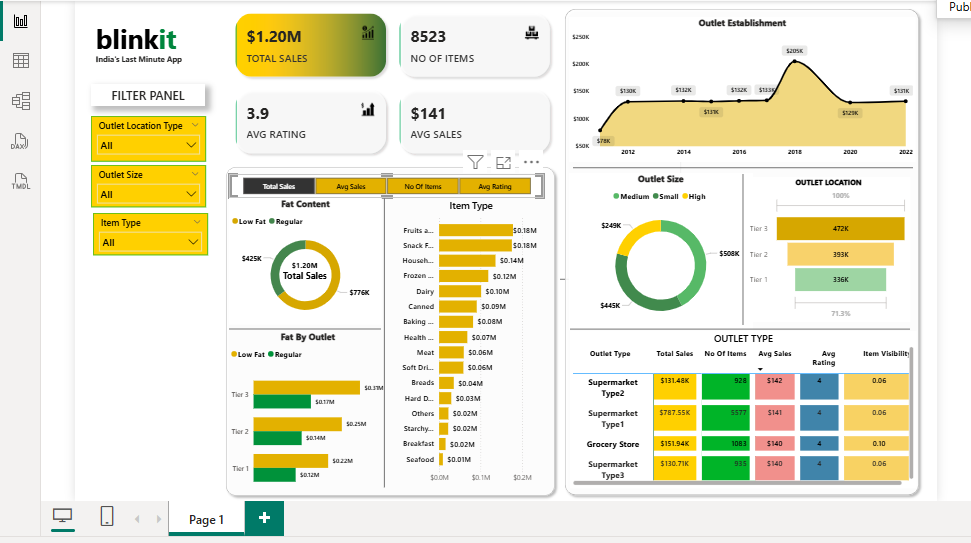

What the dashboard file says about the page in this screenshot:
{"tool":"powerbi","page":{"name":"Page 1","canvas":[1550,900],"ordinal":0},"visuals":[{"type":"shape","box":[12.3,12.3,250.5,886.9],"z":0},{"type":"textbox","box":[32.4,28.8,201.6,81],"z":1000},{"type":"textbox","box":[32.4,90,207,50.4],"z":2000},{"type":"cardVisual","fields":{"Data":["BlinkIT Grocery Data.Total Sales","BlinkIT Grocery Data.No Of Items","BlinkIT Grocery Data.Avg Rating","BlinkIT Grocery Data.Avg Sales"]},"box":[271,6.2,601.5,287.4],"z":3000},{"type":"shape","box":[262.8,289.5,609.7,609.7],"z":4000},{"type":"slicer","fields":{"Values":["Metrics.Metrics"]},"box":[277.2,312.1,566.6,43.1],"z":5000},{"type":"donutChart","title":"Fat Content","fields":{"Y":["BlinkIT Grocery Data.No Of Items"],"Category":["BlinkIT Grocery Data.Item Fat Content"]},"box":[277.2,355.2,275.1,227.9],"z":6000},{"type":"cardVisual","fields":{"Data":["BlinkIT Grocery Data.No Of Items"]},"box":[351.1,449.6,125.2,67.7],"z":6001},{"type":"clusteredBarChart","title":"Fat By Outlet","fields":{"Y":["BlinkIT Grocery Data.No Of Items"],"Category":["BlinkIT Grocery Data.Outlet Location Type"],"Series":["BlinkIT Grocery Data.Item Fat Content"]},"box":[275.1,593.3,287.4,305.9],"z":6002},{"type":"shape","box":[872.2,494.7,214.6,11.9],"z":6004},{"type":"shape","box":[1078.5,270.1,23.9,224.1],"z":6005},{"type":"barChart","title":"Item Type","fields":{"Category":["BlinkIT Grocery Data.Item Type"],"Y":["BlinkIT Grocery Data.No Of Items"]},"box":[572.8,355.2,281.3,521.5],"z":6006},{"type":"shape","box":[872.5,6.2,654.9,893],"z":6007},{"type":"lineChart","title":"Outlet Establishment ","fields":{"Category":["BlinkIT Grocery Data.Outlet Establishment Year"],"Y":["BlinkIT Grocery Data.Total Sales"]},"box":[888.9,28.7,624.1,260.7],"z":6008},{"type":"shape","box":[897.2,289.5,611.8,20.5],"z":6009},{"type":"donutChart","title":"Outlet Size","fields":{"Y":["BlinkIT Grocery Data.Total Sales"],"Category":["BlinkIT Grocery Data.Outlet Size"]},"box":[888.9,310,330.5,283.3],"z":6010},{"type":"shape","box":[550.2,355.2,12.3,521.5],"z":6011},{"type":"shape","box":[1194.8,312.1,14.4,271],"z":6012},{"type":"shape","box":[891,574.8,611.8,32.8],"z":6013},{"type":"funnel","title":" OUTLET LOCATION","fields":{"Y":["Sum(BlinkIT Grocery Data.Sales)"],"Category":["BlinkIT Grocery Data.Outlet Location Type"]},"box":[1209.2,316.2,293.6,260.7],"z":6014},{"type":"pivotTable","title":"OUTLET TYPE","fields":{"Values":["BlinkIT Grocery Data.Total Sales","BlinkIT Grocery Data.No Of Items","BlinkIT Grocery Data.Avg Sales","BlinkIT Grocery Data.Avg Rating","Avg(BlinkIT Grocery Data.Item Visibility)"],"Rows":["BlinkIT Grocery Data.Outlet Type"]},"box":[891,593.3,624.1,283.3],"z":6016},{"type":"slicer","fields":{"Values":["BlinkIT Grocery Data.Outlet Size"]},"box":[28.7,295.6,207.4,76],"z":6017},{"type":"shape","box":[277.2,583,273,14.4],"z":6018},{"type":"slicer","fields":{"Values":["BlinkIT Grocery Data.Outlet Location Type"]},"box":[28.7,207.4,207.4,82.1],"z":6019},{"type":"slicer","fields":{"Values":["BlinkIT Grocery Data.Item Type"]},"box":[32.8,381.9,207.4,76],"z":6020},{"type":"textbox","box":[28.7,149.9,205.3,39],"z":6021}]}

Visuals, with their boxes on the page's 1550x900 design canvas (x1, y1, x2, y2). These are canvas units, not pixel positions in the 971x543 screenshot, which may show the page scaled, cropped or inside an application window:
shape: {"x1": 12, "y1": 12, "x2": 263, "y2": 899}
textbox: {"x1": 32, "y1": 29, "x2": 234, "y2": 110}
textbox: {"x1": 32, "y1": 90, "x2": 239, "y2": 140}
cardVisual - BlinkIT Grocery Data.Total Sales x BlinkIT Grocery Data.No Of Items: {"x1": 271, "y1": 6, "x2": 872, "y2": 294}
shape: {"x1": 263, "y1": 290, "x2": 872, "y2": 899}
slicer - Metrics.Metrics: {"x1": 277, "y1": 312, "x2": 844, "y2": 355}
"Fat Content" donutChart: {"x1": 277, "y1": 355, "x2": 552, "y2": 583}
cardVisual - BlinkIT Grocery Data.No Of Items: {"x1": 351, "y1": 450, "x2": 476, "y2": 517}
"Fat By Outlet" clusteredBarChart: {"x1": 275, "y1": 593, "x2": 562, "y2": 899}
shape: {"x1": 872, "y1": 495, "x2": 1087, "y2": 507}
shape: {"x1": 1078, "y1": 270, "x2": 1102, "y2": 494}
"Item Type" barChart: {"x1": 573, "y1": 355, "x2": 854, "y2": 877}
shape: {"x1": 872, "y1": 6, "x2": 1527, "y2": 899}
"Outlet Establishment " lineChart: {"x1": 889, "y1": 29, "x2": 1513, "y2": 289}
shape: {"x1": 897, "y1": 290, "x2": 1509, "y2": 310}
"Outlet Size" donutChart: {"x1": 889, "y1": 310, "x2": 1219, "y2": 593}
shape: {"x1": 550, "y1": 355, "x2": 562, "y2": 877}
shape: {"x1": 1195, "y1": 312, "x2": 1209, "y2": 583}
shape: {"x1": 891, "y1": 575, "x2": 1503, "y2": 608}
" OUTLET LOCATION" funnel: {"x1": 1209, "y1": 316, "x2": 1503, "y2": 577}
"OUTLET TYPE" pivotTable: {"x1": 891, "y1": 593, "x2": 1515, "y2": 877}
slicer - BlinkIT Grocery Data.Outlet Size: {"x1": 29, "y1": 296, "x2": 236, "y2": 372}
shape: {"x1": 277, "y1": 583, "x2": 550, "y2": 597}
slicer - BlinkIT Grocery Data.Outlet Location Type: {"x1": 29, "y1": 207, "x2": 236, "y2": 290}
slicer - BlinkIT Grocery Data.Item Type: {"x1": 33, "y1": 382, "x2": 240, "y2": 458}
textbox: {"x1": 29, "y1": 150, "x2": 234, "y2": 189}
